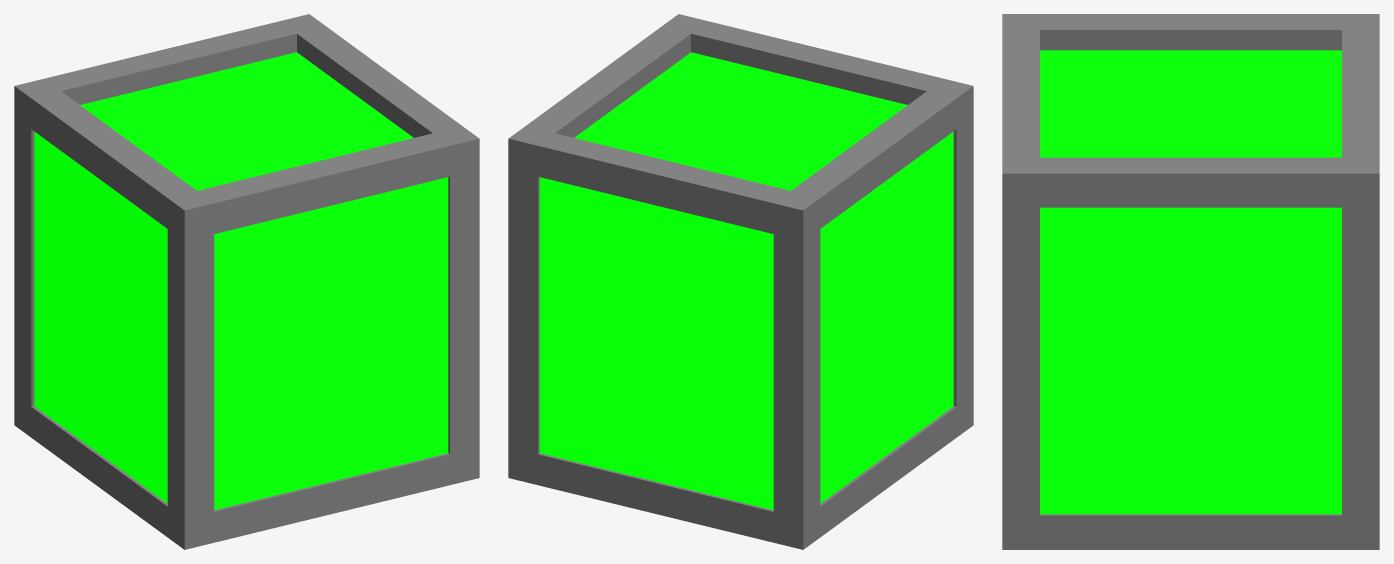
3 views of the same model, side by side, from view 1: azimuth 30°, elevation 25°; view 2: azimuth 150°, elevation 25°; view 3: azimuth 270°, elevation 25° (orthographic). The views are drawn at different scales.
Visible parts, largest first — view 1: Box, Box_3, Box_5, Box_4, Box_6, Box_8, Box_12, Box_7, Box_11, Box_1; view 2: Box, Box_1, Box_8, Box_6, Box_2, Box_5, Box_10, Box_7, Box_3, Box_11; view 3: Box, Box_7, Box_2, Box_4, Box_9, Box_6, Box_5, Box_8, Box_12.
Boxes of the visible parts, left/top/right/bottom form: Box: left=34, top=52, right=448, bottom=509; Box_3: left=167, top=214, right=214, bottom=533; Box_5: left=167, top=126, right=479, bottom=240; Box_4: left=448, top=154, right=479, bottom=469; Box_6: left=14, top=79, right=213, bottom=239; Box_8: left=14, top=15, right=325, bottom=127; Box_12: left=182, top=453, right=479, bottom=549; Box_7: left=280, top=14, right=479, bottom=175; Box_11: left=14, top=395, right=214, bottom=549; Box_1: left=14, top=102, right=34, bottom=421; Box: left=539, top=52, right=953, bottom=509; Box_1: left=773, top=214, right=820, bottom=534; Box_8: left=508, top=126, right=819, bottom=239; Box_6: left=773, top=79, right=973, bottom=240; Box_2: left=508, top=154, right=539, bottom=469; Box_5: left=662, top=14, right=973, bottom=128; Box_10: left=508, top=453, right=814, bottom=549; Box_7: left=508, top=14, right=707, bottom=173; Box_3: left=953, top=102, right=973, bottom=421; Box_11: left=773, top=394, right=973, bottom=549; Box: left=1040, top=50, right=1341, bottom=514; Box_7: left=1002, top=157, right=1379, bottom=207; Box_2: left=1342, top=190, right=1379, bottom=532; Box_4: left=1002, top=190, right=1039, bottom=532; Box_9: left=1002, top=514, right=1379, bottom=549; Box_6: left=1002, top=14, right=1379, bottom=50; Box_5: left=1002, top=14, right=1039, bottom=206; Box_8: left=1342, top=14, right=1379, bottom=203; Box_12: left=1002, top=515, right=1039, bottom=549.
Bounding box in the file's own units: 2 × 2.2 × 2.
